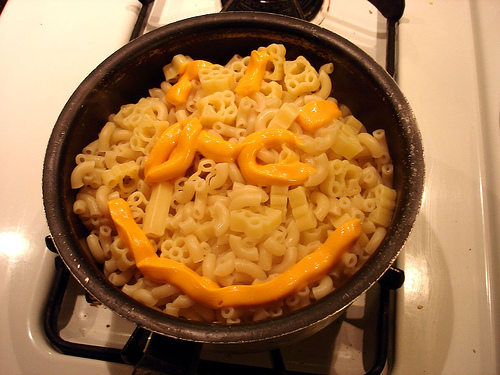macncheese: (69, 42, 394, 323)
